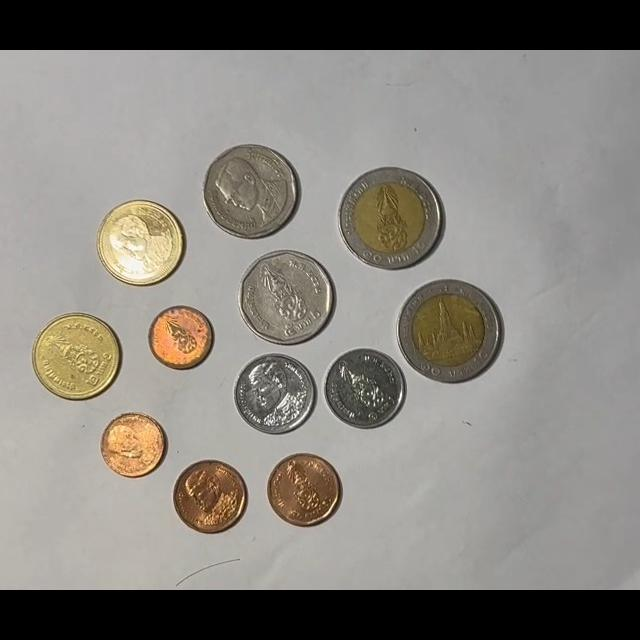1-baht: (233, 353, 316, 435), (323, 348, 405, 430)
10-baht: (337, 167, 443, 271), (397, 279, 502, 382)
2-baht: (33, 312, 122, 401), (96, 200, 184, 288)
25-satang: (100, 411, 168, 478), (149, 305, 215, 370)
5-baht: (238, 249, 335, 346), (203, 144, 300, 239)
50-satang: (173, 459, 249, 534), (266, 454, 341, 528)
